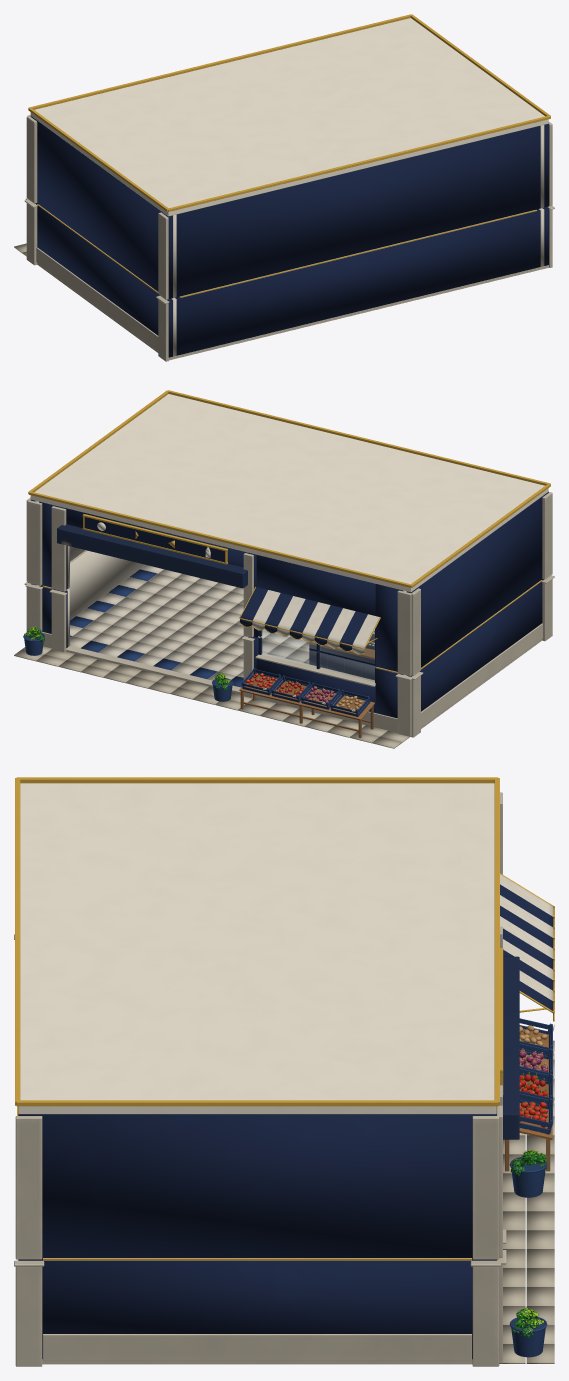
The model's file is Era5_Quitanda.fbx.
3 views of the same model, one above another, from view 1: azimuth 30°, elevation 25°; view 2: azimuth 150°, elevation 25°; view 3: azimuth 270°, elevation 25° (orthographic). The views are drawn at different scales.
Visible parts, largest first — view 1: CUT_ERA5_ShellTop, ERA5_Shell; view 2: CUT_ERA5_ShellTop, ERA5_Shell, CUT_ERA5_Awning, ERA5_Produce, CUT_ERA5_Sign, ERA5_Glass_win, ERA5_Counter, CUT_ERA5_Glass_winTop; view 3: CUT_ERA5_ShellTop, ERA5_Shell, CUT_ERA5_Awning, ERA5_Produce.
Part boxes in pixels (x1,y1,x2,y2): CUT_ERA5_ShellTop: (26,14,552,299); ERA5_Shell: (14,198,554,361); CUT_ERA5_ShellTop: (26,390,552,676); ERA5_Shell: (14,550,554,748); CUT_ERA5_Awning: (239,587,380,654); ERA5_Produce: (239,668,374,738); CUT_ERA5_Sign: (82,514,227,564); ERA5_Glass_win: (262,639,374,681); ERA5_Counter: (306,641,375,680); CUT_ERA5_Glass_winTop: (262,629,374,663); CUT_ERA5_ShellTop: (15,777,519,1259); ERA5_Shell: (14,934,554,1366); CUT_ERA5_Awning: (500,873,554,1021); ERA5_Produce: (505,1018,554,1171).
Bounding box in the file's own units: 8.8 × 3.27 × 6.09.
Materials: 2 (1 with a texture image).
